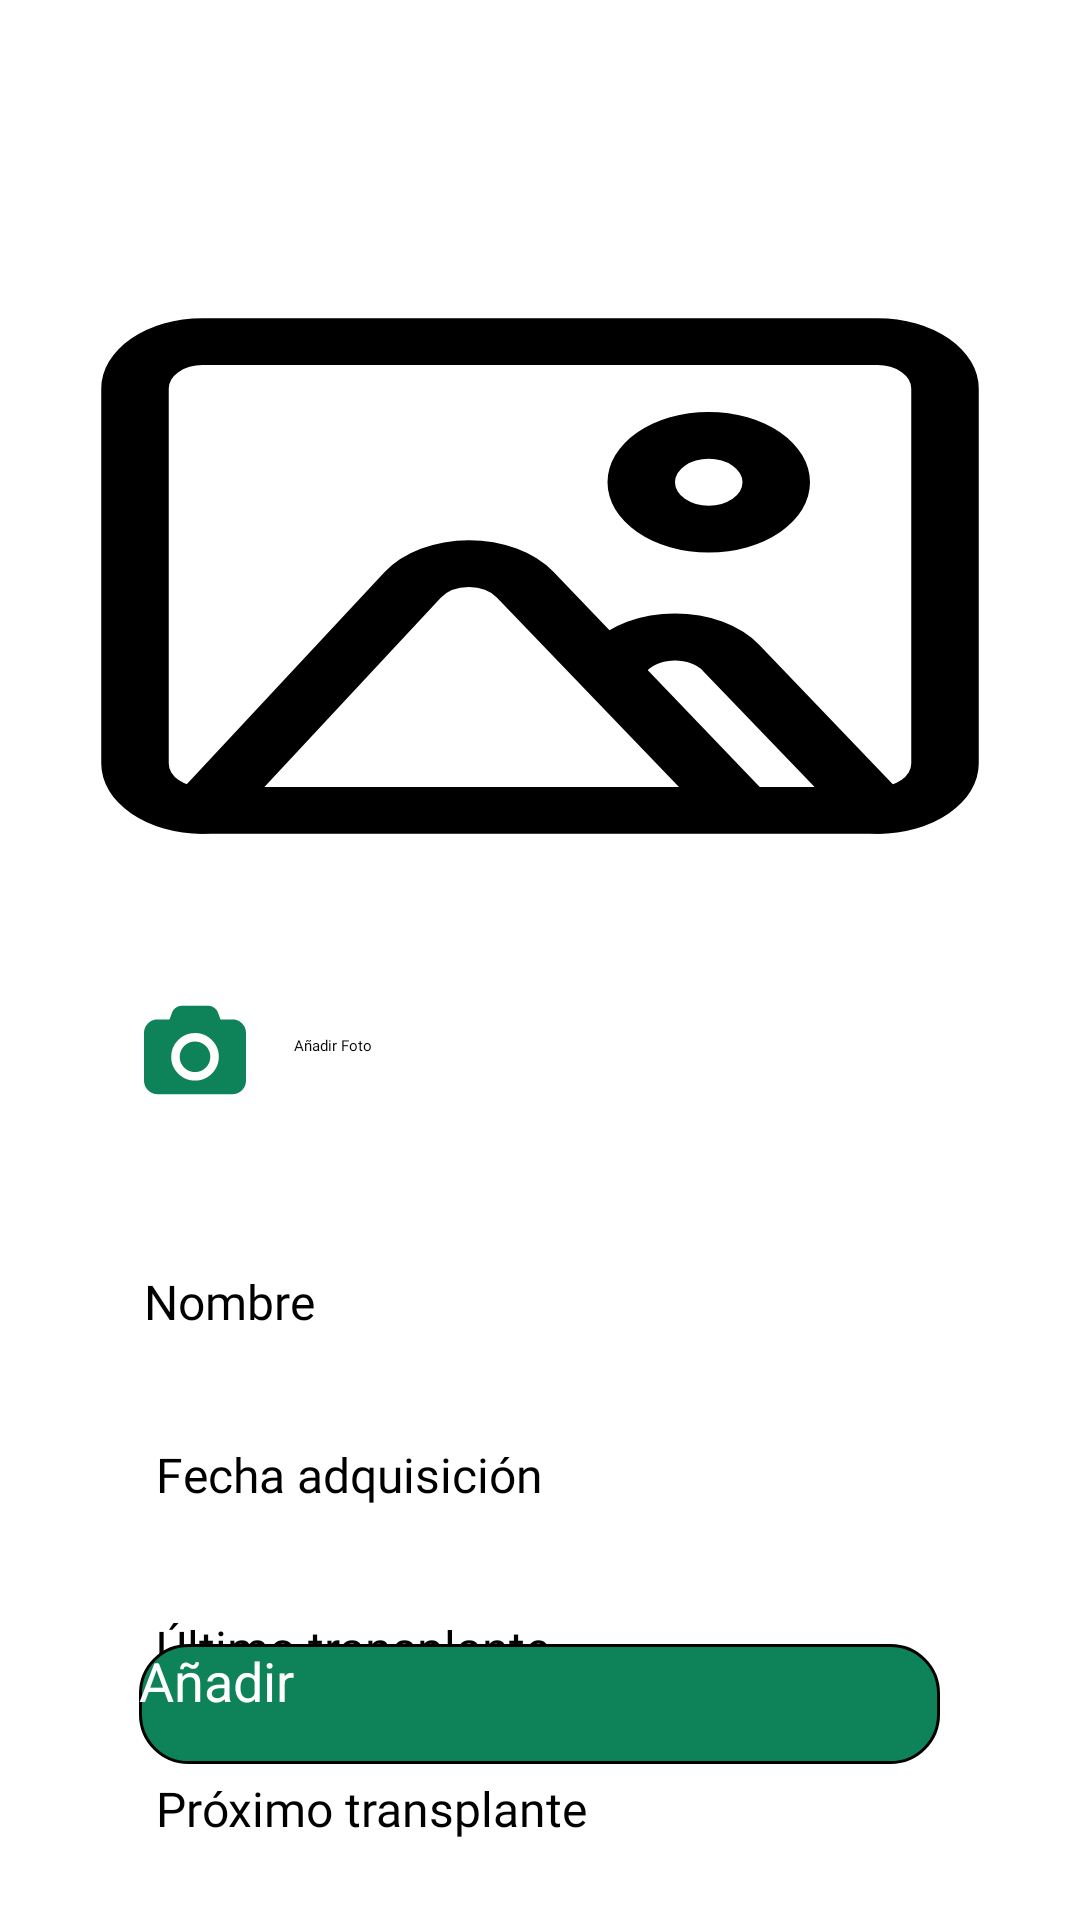

Where icons sit on this 1080x1920 app screen, as (x1, y1, x2, y2):
camera: (144, 1005, 246, 1095)
